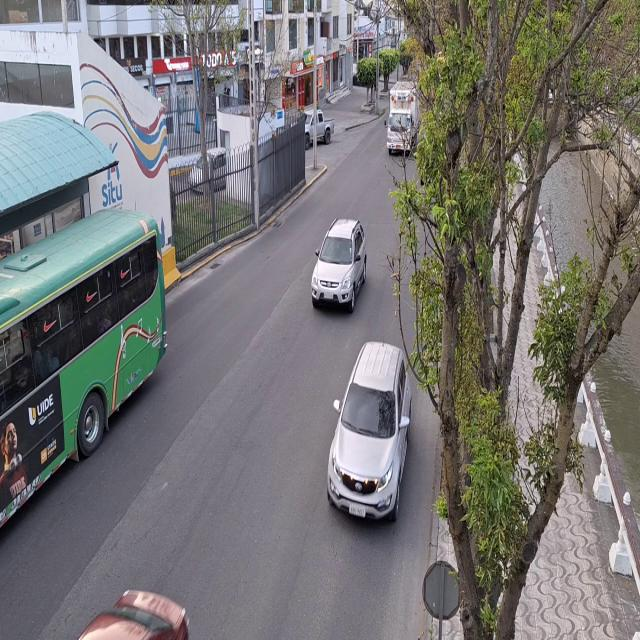BUS: (0, 215, 156, 546)
SUV: (333, 341, 410, 539), (313, 220, 368, 305)
TRUCK: (389, 92, 422, 156)
